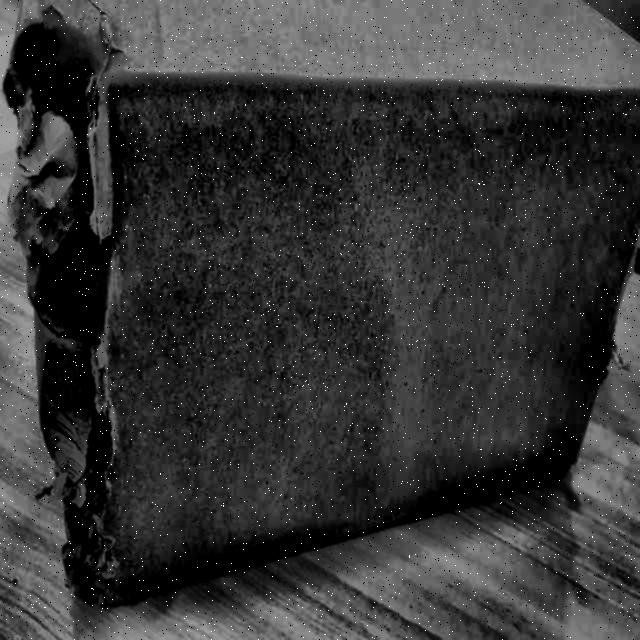box: (2, 0, 640, 625)
hole: (11, 8, 125, 598)
